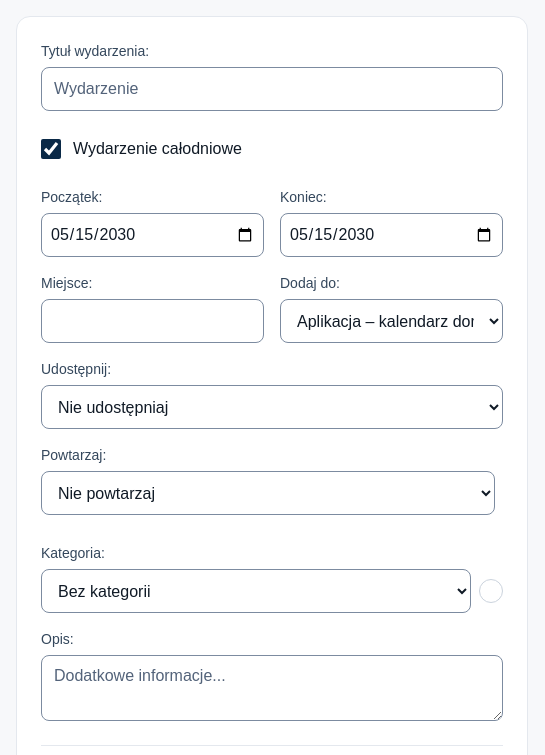
Test: EventForm – pole „Dodaj do” › wydarzenie cykliczne: kalendarze zewnętrzne zablokowane, wybór wraca do aplikacji
Step 1. Type "Spotkanie" into the field labelled "Tytuł wydarzenia:" → (272, 89), box [41,67,503,111]
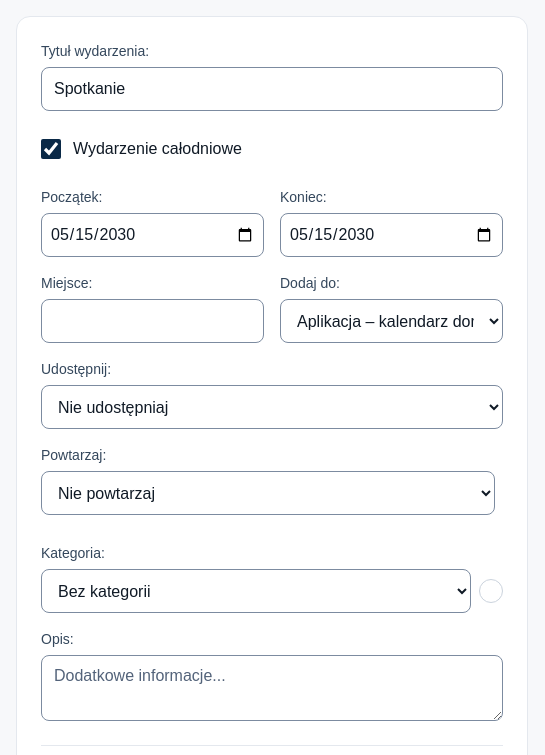
Step 2. Select "Google: Praca" in the dropdown labelled "Dodaj do:" → (392, 321), box [280,299,503,343]
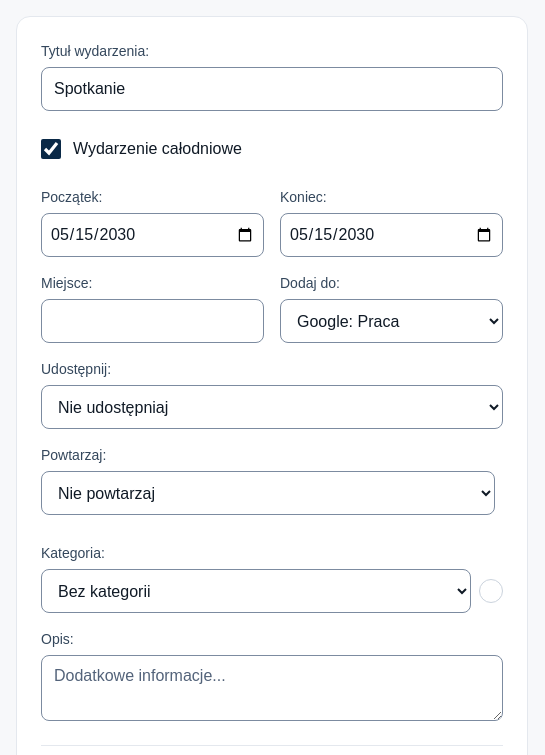
Step 3. Select "Co tydzień" in the dropdown labelled "Powtarzaj:" → (268, 493), box [41,471,495,515]
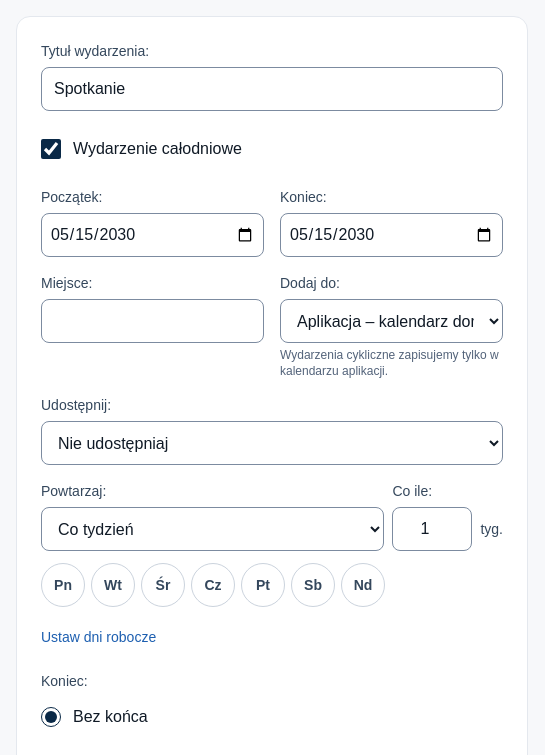
Check: the text "Wydarzenia cykliczne zapisujemy tylko w kalendarzu aplikacji." is shown, box [280,347,503,379]
